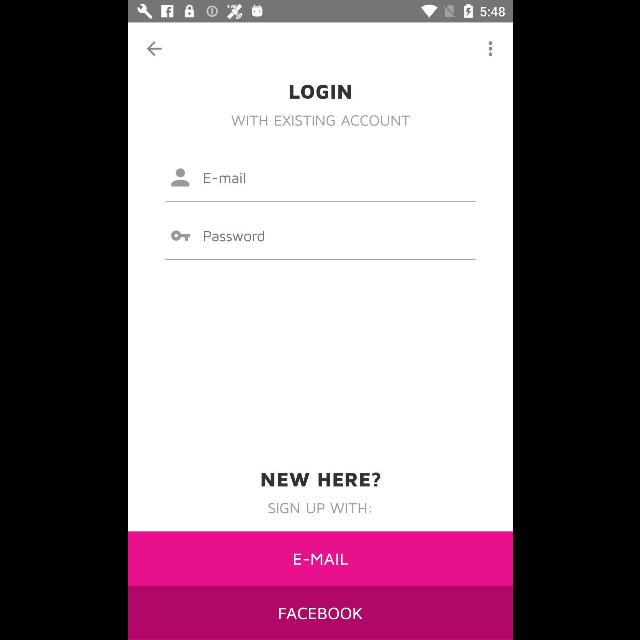icon: (171, 169, 189, 187), (146, 42, 162, 56), (488, 41, 492, 57)
image: (170, 230, 190, 242)
input: (165, 168, 475, 202), (165, 230, 475, 260)
text: (230, 115, 410, 126), (260, 472, 380, 488), (267, 502, 371, 514), (289, 85, 351, 99), (202, 232, 264, 242), (203, 172, 245, 184)
textbutton: (128, 586, 512, 640), (128, 532, 512, 586)
uppertaskbar: (128, 1, 512, 23)
